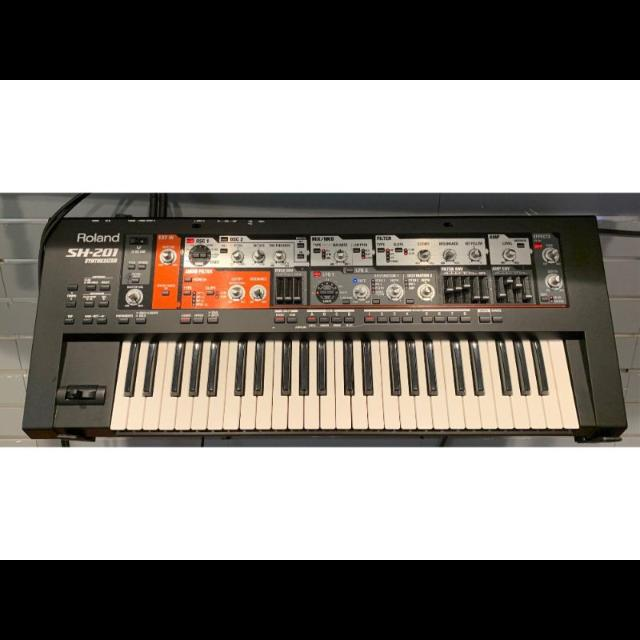Electronic-Keyboard: (25, 200, 628, 432)
